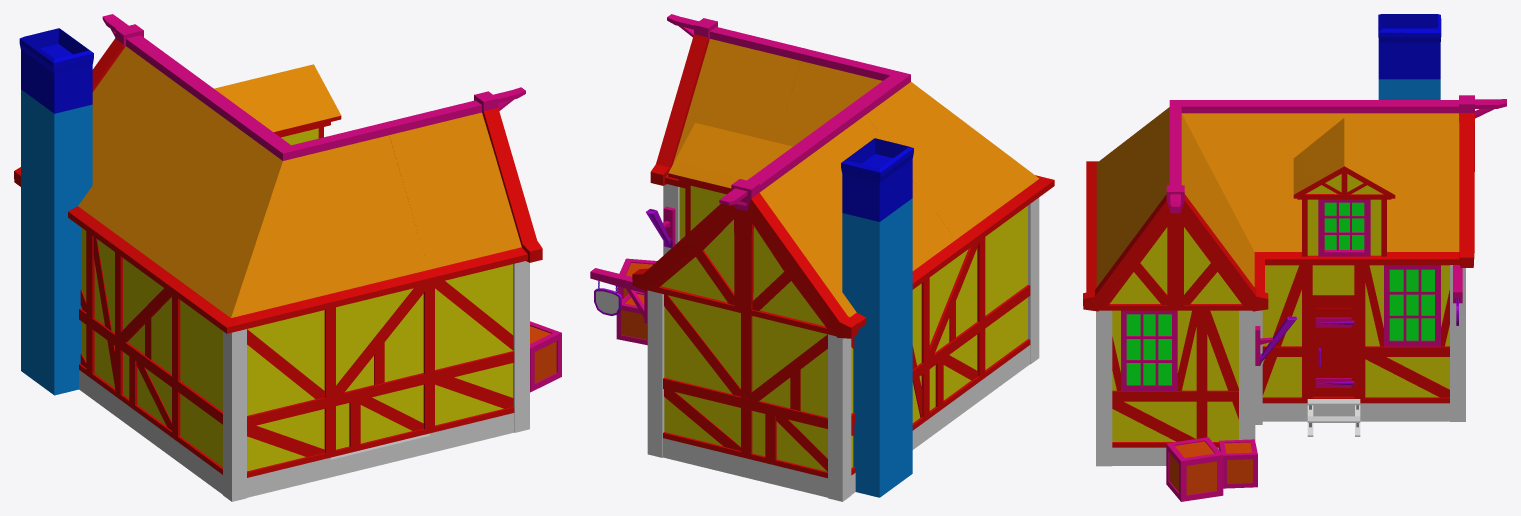
Rendered from House.fbx.
The picture shows the model from 3 angles, left to right: view 1: azimuth 30°, elevation 25°; view 2: azimuth 150°, elevation 25°; view 3: azimuth 270°, elevation 25°; orthographic projection. The views are drawn at different scales.
Visible parts, largest first — view 1: roof_intersection2.009, chimney.008, roof_narrow3.001, wall_wood_2m_3.003, roof_wide3.012, wall_wood_2m_2.002, wall_wood_2m_2.003, roof_wide3.013, wall_wood_2m_3.002, wall_wood_2m_1.001, roof_dormer.003, wall_wood_1m_2.003 (+10 smaller); view 2: chimney.008, roof_intersection2.009, roof_end_wide.014, wall_wood_2m_2.004, wall_wood_2m_3.004, roof_narrow3.001, wall_wood_2m_3.002, roof_wide3.013, wall_wood_2m_1.001, roof_wide3.012, roof_dormer.003, wooden_post_rock_corner_concave.030 (+11 smaller); view 3: roof_intersection2.009, roof_wide3.013, roof_front_narrow.004, wall_wood_window_2m_1.002, wall_wood_window_2m_1.001, roof_dormer.003, roof_wide3.012, roof_narrow3.001, wall_wood_1m_2.002, chimney.008, wall_wood_1m_2.001, wall_wood_entry_1m_1.001 (+13 smaller).
Part boxes in pixels (box(x1,y1,x2,y2)): roof_intersection2.009: box(135, 116, 434, 333); chimney.008: box(19, 28, 93, 395); roof_narrow3.001: box(383, 100, 527, 282); wall_wood_2m_3.003: box(331, 284, 429, 457); roof_wide3.012: box(78, 74, 250, 266); wall_wood_2m_2.002: box(247, 308, 330, 477); wall_wood_2m_2.003: box(430, 264, 514, 433); roof_wide3.013: box(68, 35, 193, 224); wall_wood_2m_3.002: box(118, 254, 174, 439); wall_wood_2m_1.001: box(175, 296, 222, 474); roof_dormer.003: box(214, 64, 341, 145); wall_wood_1m_2.003: box(89, 233, 117, 397); chimney.008: box(841, 138, 913, 497); roof_intersection2.009: box(777, 49, 1054, 250); roof_end_wide.014: box(632, 179, 858, 338); wall_wood_2m_2.004: box(663, 294, 745, 458); wall_wood_2m_3.004: box(746, 314, 827, 478); roof_narrow3.001: box(664, 27, 806, 188); wall_wood_2m_3.002: box(926, 239, 982, 420); roof_wide3.013: box(747, 145, 866, 329); wall_wood_2m_1.001: box(982, 206, 1030, 379); roof_wide3.012: box(796, 104, 965, 289); roof_dormer.003: box(668, 123, 792, 235); wooden_post_rock_corner_concave.030: box(828, 334, 851, 501); roof_intersection2.009: box(1086, 100, 1254, 254); roof_wide3.013: box(1359, 100, 1459, 264); roof_front_narrow.004: box(1083, 185, 1268, 311); wall_wood_window_2m_1.002: box(1360, 265, 1449, 403); wall_wood_window_2m_1.001: box(1112, 310, 1201, 447); roof_dormer.003: box(1293, 118, 1395, 256); roof_wide3.012: box(1254, 100, 1359, 264); roof_narrow3.001: box(1086, 147, 1264, 292); wall_wood_1m_2.002: box(1262, 265, 1307, 403); chimney.008: box(1378, 14, 1441, 99); wall_wood_1m_2.001: box(1202, 310, 1238, 447); wall_wood_entry_1m_1.001: box(1307, 265, 1359, 402).
Bounding box in the file's own units: 811 × 652 × 806.
